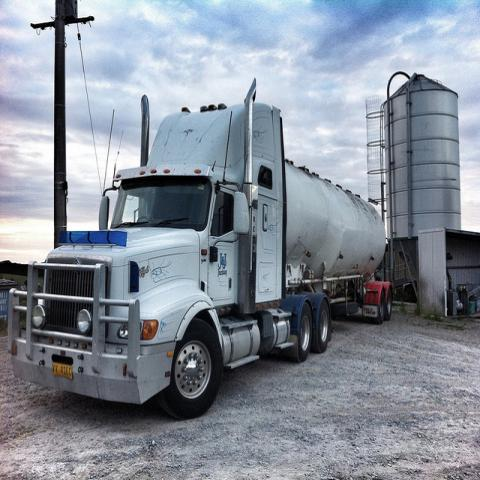truck: (5, 76, 389, 422)
